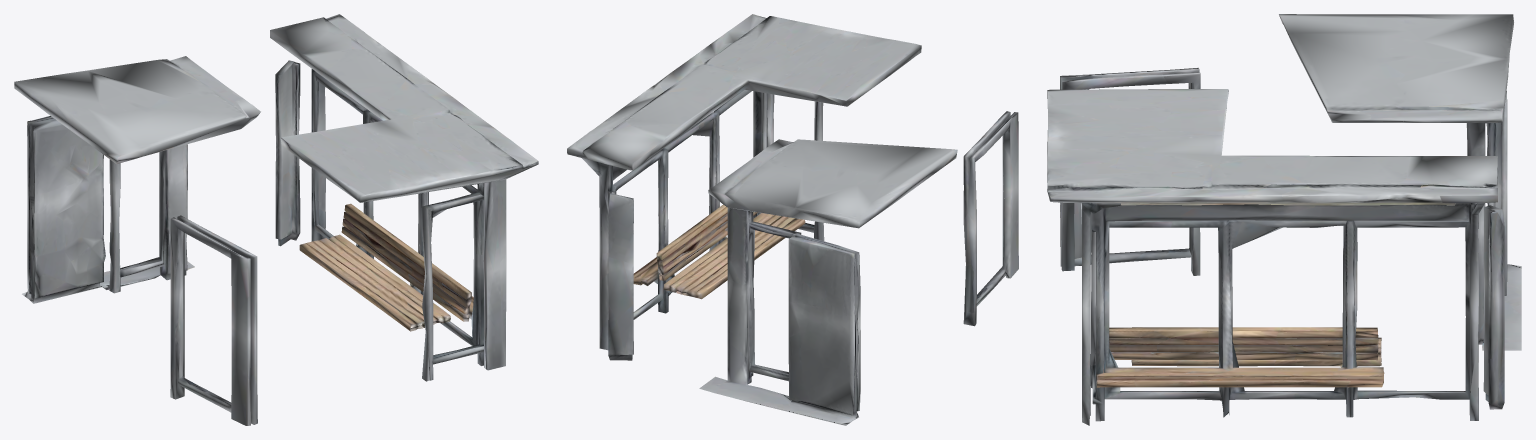
The model's file is au_env_transit_shelter.glb.
The picture shows the model from 3 angles, left to right: view 1: azimuth 30°, elevation 25°; view 2: azimuth 150°, elevation 25°; view 3: azimuth 270°, elevation 25°; orthographic projection. The views are drawn at different scales.
Visible parts, largest first — view 1: tripo_node_faddf561-8317-400e-b9df-a9c6eb79e280; view 2: tripo_node_faddf561-8317-400e-b9df-a9c6eb79e280; view 3: tripo_node_faddf561-8317-400e-b9df-a9c6eb79e280.
Part boxes in pixels (x1,y1,x2,y2): tripo_node_faddf561-8317-400e-b9df-a9c6eb79e280: (14, 14, 538, 425); tripo_node_faddf561-8317-400e-b9df-a9c6eb79e280: (567, 14, 1018, 425); tripo_node_faddf561-8317-400e-b9df-a9c6eb79e280: (1047, 14, 1521, 425).
Bounding box in the file's own units: 0.8592 × 0.5662 × 0.9795.
Materials: 1 (1 with a texture image).
